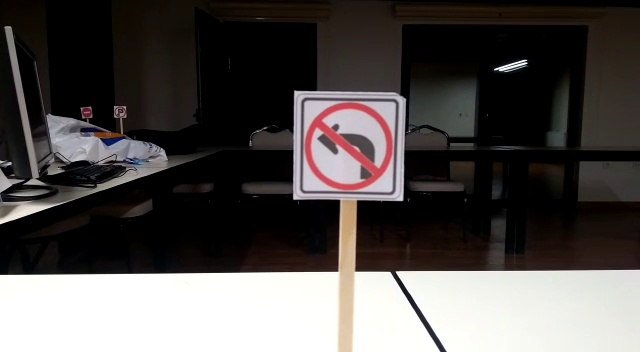sola_donulmez: (298, 93, 396, 194)
